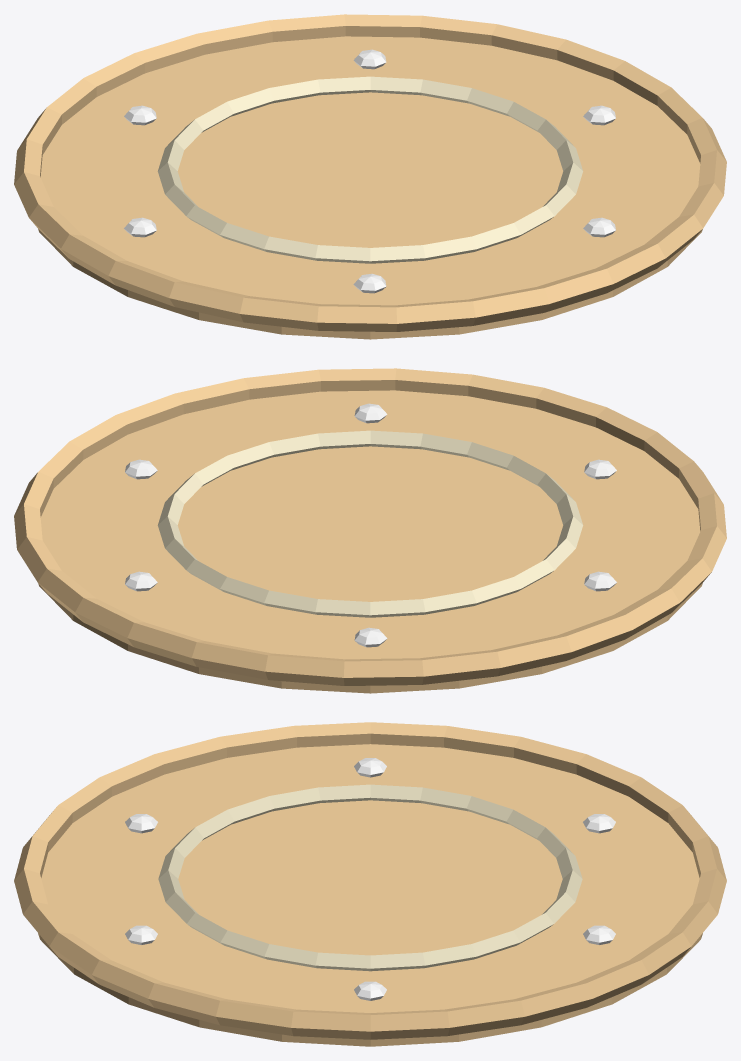
Rendered from placa_aviso.glb.
3 views of the same model, one above another, from view 1: azimuth 30°, elevation 25°; view 2: azimuth 150°, elevation 25°; view 3: azimuth 270°, elevation 25° (orthographic).
Visible parts, largest first — view 1: placa_aviso; view 2: placa_aviso; view 3: placa_aviso.
Boxes of the visible parts, x1,y1,x2,y2 form: placa_aviso: (14,14,726,339); placa_aviso: (14,368,726,693); placa_aviso: (14,722,726,1046).
Bounding box in the file's own units: 2.29 × 0.1187 × 2.29.
